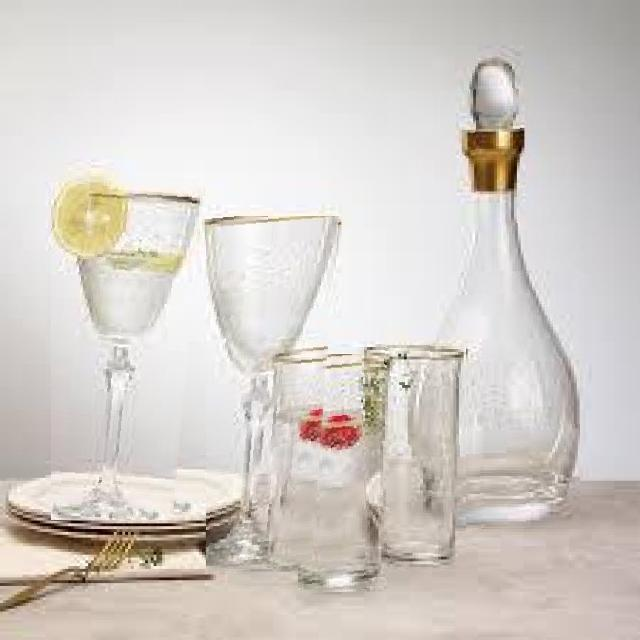Glass: (407, 56, 580, 530), (51, 170, 205, 520), (207, 216, 341, 576), (284, 354, 387, 596), (362, 341, 466, 569)
